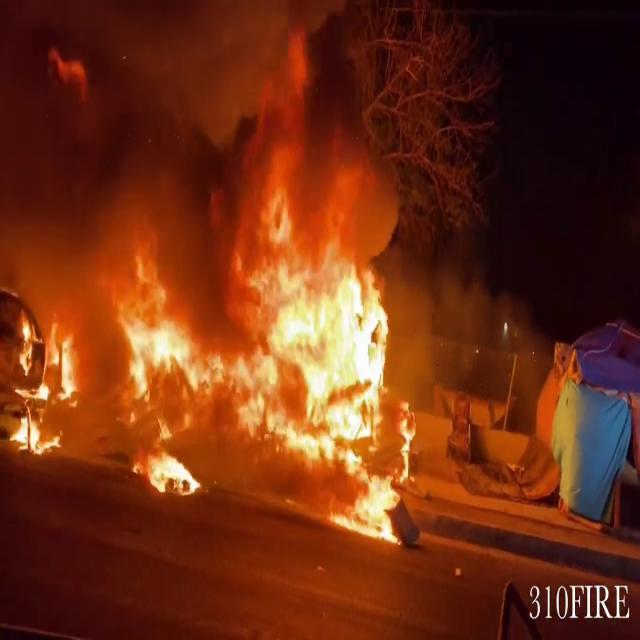Fire: (1, 203, 424, 514), (4, 308, 80, 457)
Smoke: (1, 1, 403, 266)
